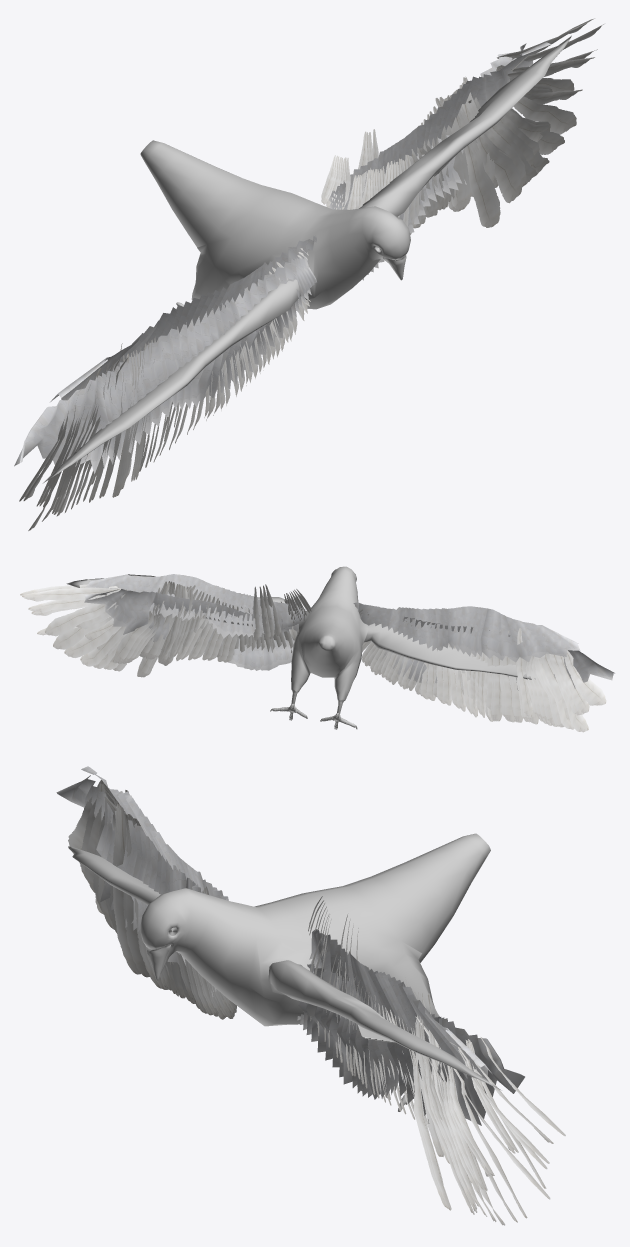
Rendered from body.obj.
3 views of the same model, one above another, from view 1: azimuth 30°, elevation 25°; view 2: azimuth 150°, elevation 25°; view 3: azimuth 270°, elevation 25° (orthographic). The views are drawn at different scales.
Visible parts, largest first — view 1: Body.001, polySurface209.001, polySurface301.001, polySurface371.001, polySurface300.001, polySurface244.001, polySurface239.001, polySurface240.001; view 2: Body.001, polySurface371.001, polySurface300.001, polySurface301.001, polySurface209.001, polySurface370.001, polySurface319.001, polySurface139.001, polySurface316.001, polySurface240.001, polySurface305.001, polySurface315.001 (+24 smaller); view 3: Body.001, polySurface300.001, polySurface301.001, polySurface209.001, polySurface371.001, polySurface154.001, polySurface233.001, polySurface156.001, polySurface240.001.
Part boxes in pixels (x1,y1,x2,y2): Body.001: (42,35,571,483); polySurface209.001: (14,256,316,473); polySurface301.001: (328,42,550,209); polySurface371.001: (50,235,316,401); polySurface300.001: (347,43,526,280); polySurface244.001: (464,143,496,227); polySurface239.001: (476,134,522,203); polySurface240.001: (513,96,576,134); Body.001: (66,566,535,729); polySurface371.001: (353,602,580,662); polySurface300.001: (84,589,298,670); polySurface301.001: (86,574,305,638); polySurface209.001: (382,616,614,690); polySurface370.001: (22,587,120,601); polySurface319.001: (45,595,121,636); polySurface139.001: (566,650,606,705); polySurface316.001: (64,625,119,657); polySurface240.001: (53,616,112,649); polySurface305.001: (113,587,159,663); polySurface315.001: (80,626,125,666); Body.001: (68,833,501,1111); polySurface300.001: (297,964,524,1125); polySurface301.001: (309,929,491,1080); polySurface209.001: (56,775,216,996); polySurface371.001: (81,766,228,900); polySurface154.001: (115,807,140,974); polySurface233.001: (412,1051,451,1210); polySurface156.001: (126,814,149,977); polySurface240.001: (453,1068,527,1218).
Bounding box in the file's own units: 83.14 × 22.62 × 39.18.
